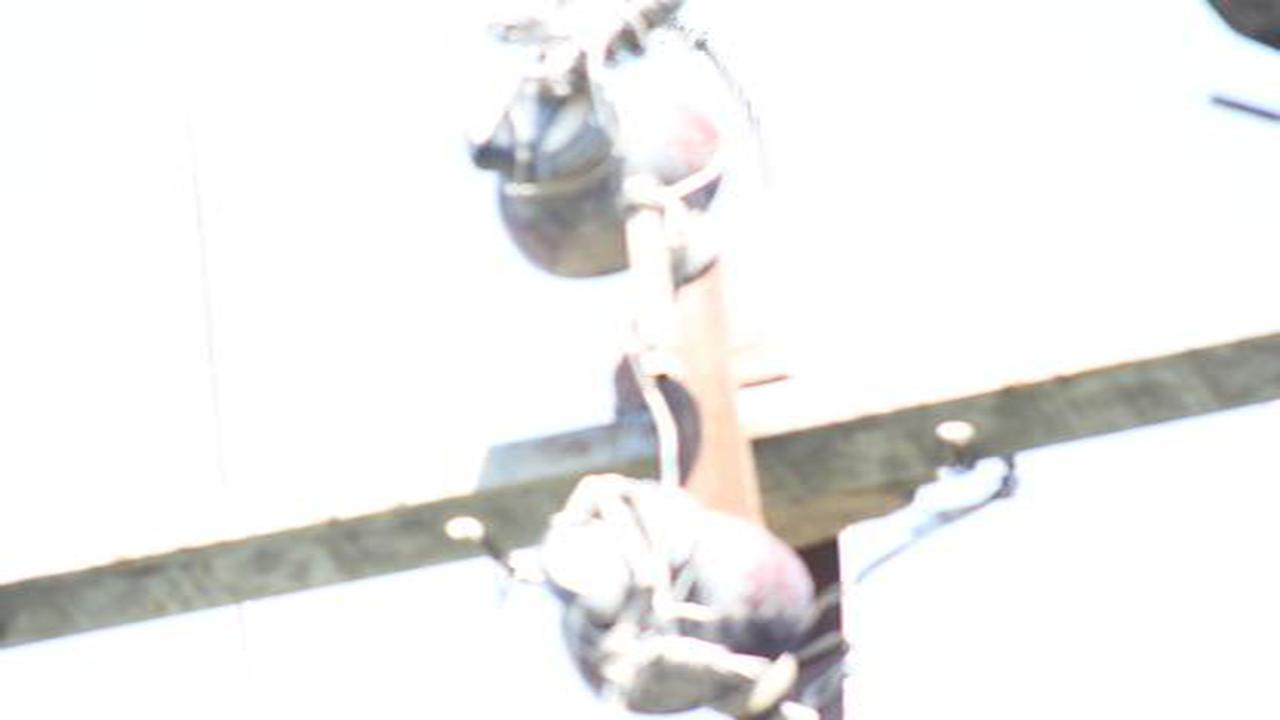insulator_pin: (533, 465, 827, 704), (465, 41, 732, 295)
